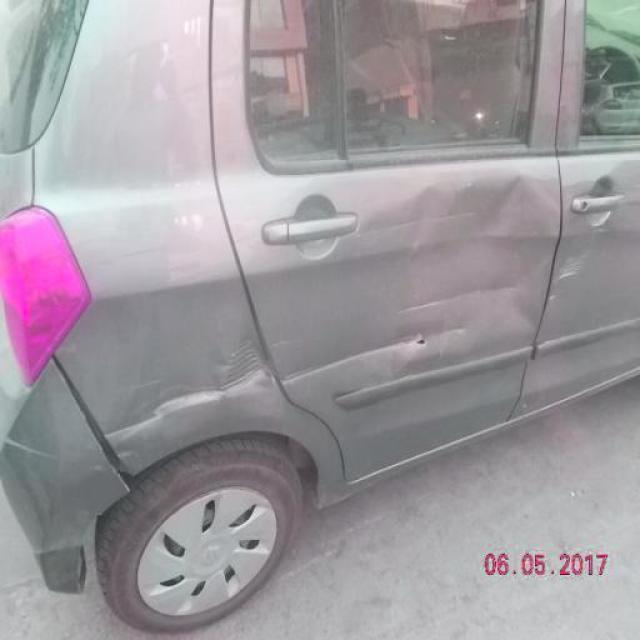Car-Damage: (486, 175, 544, 240), (406, 190, 446, 245), (223, 339, 262, 391), (555, 258, 586, 283)
